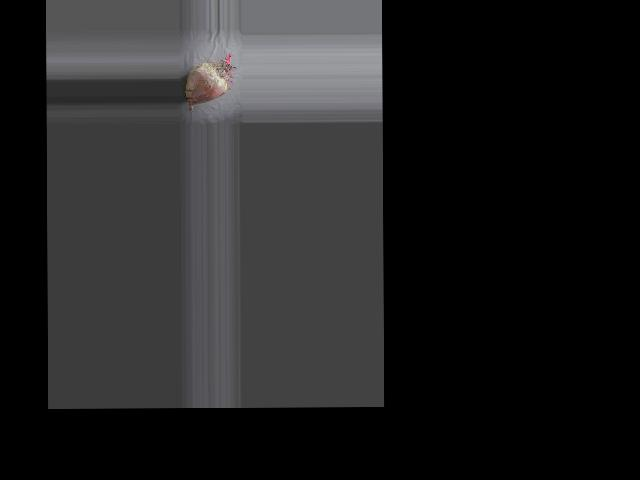beet: (185, 52, 236, 112)
